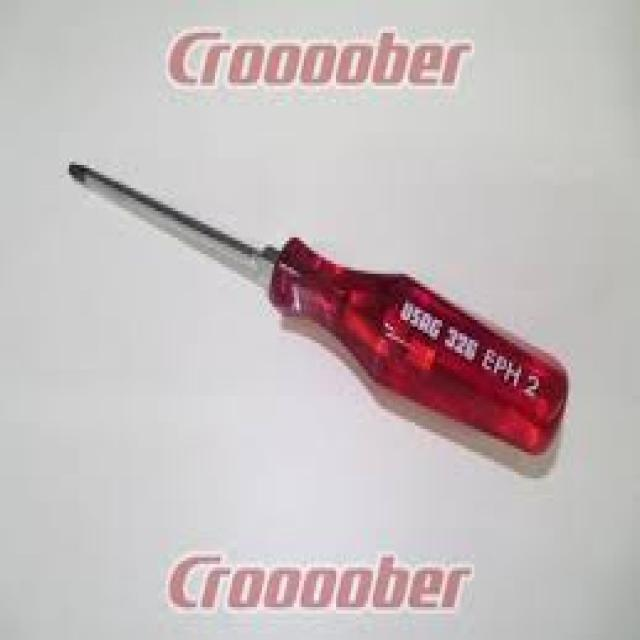Screwdriver: (69, 165, 567, 453)
